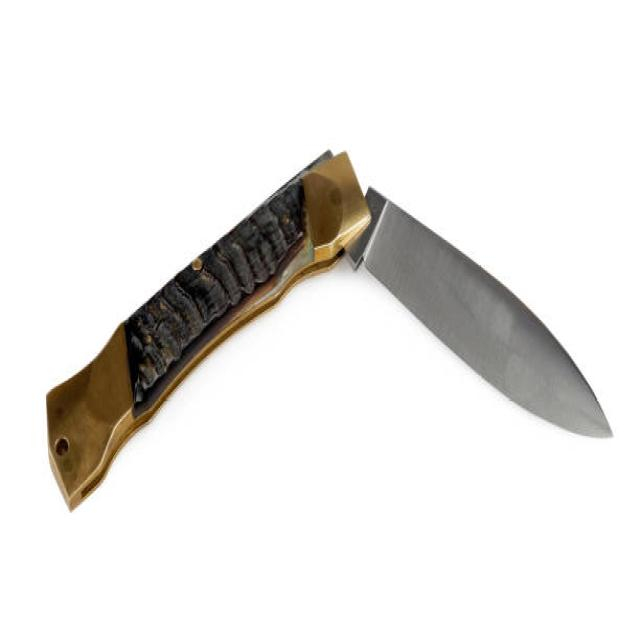knife: (38, 134, 620, 539)
